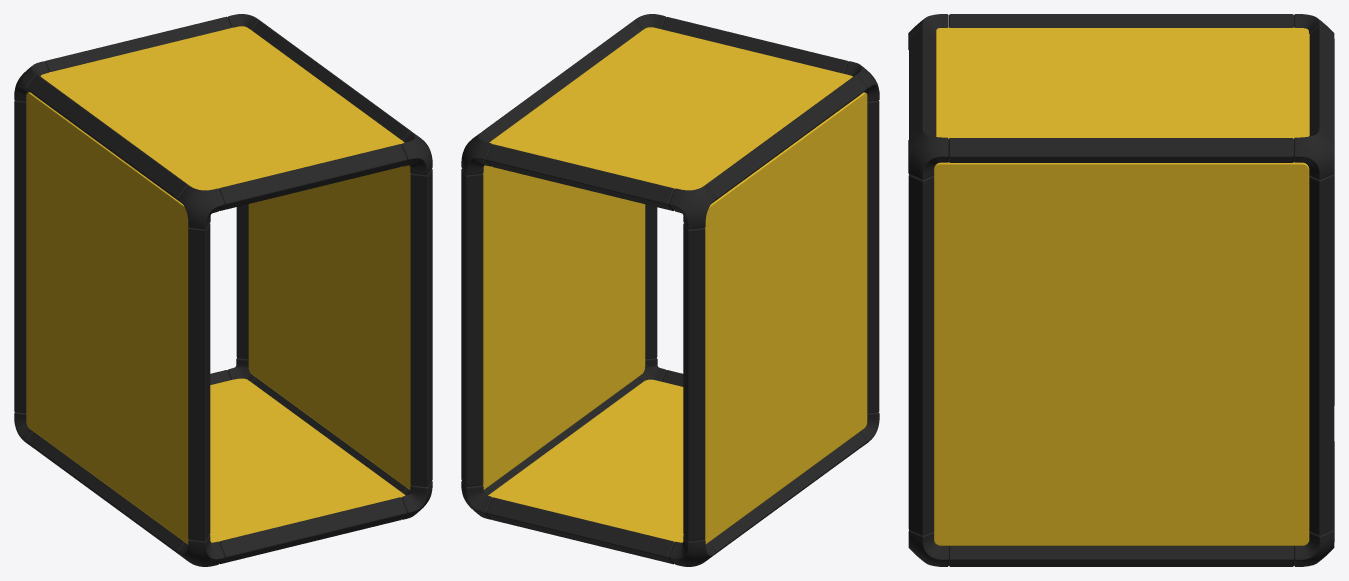
3 renders of one model, left to right at view 1: azimuth 30°, elevation 25°; view 2: azimuth 150°, elevation 25°; view 3: azimuth 270°, elevation 25°, orthographic. The views are drawn at different scales.
Parts seen in each view (by area): view 1: 229x329x374; view 2: 229x329x374; view 3: 229x329x374.
Part boxes in pixels (x1,y1,x2,y2): 229x329x374: (14,14,432,566); 229x329x374: (461,14,879,566); 229x329x374: (908,14,1334,566).
Size of the model in its own units: 0.3067 by 0.4516 by 0.4063.
